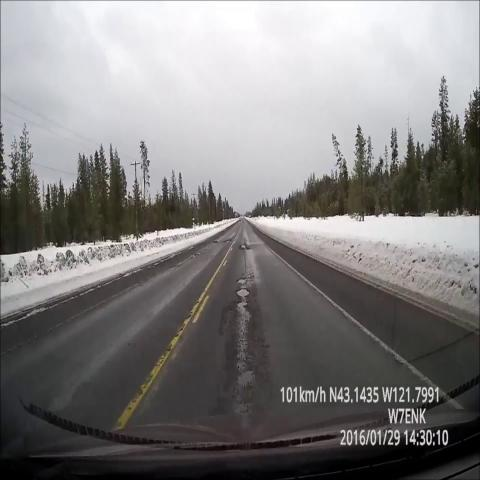pothole: (227, 263, 259, 317), (238, 234, 252, 267), (219, 231, 237, 253), (207, 232, 224, 252), (188, 247, 204, 266)
